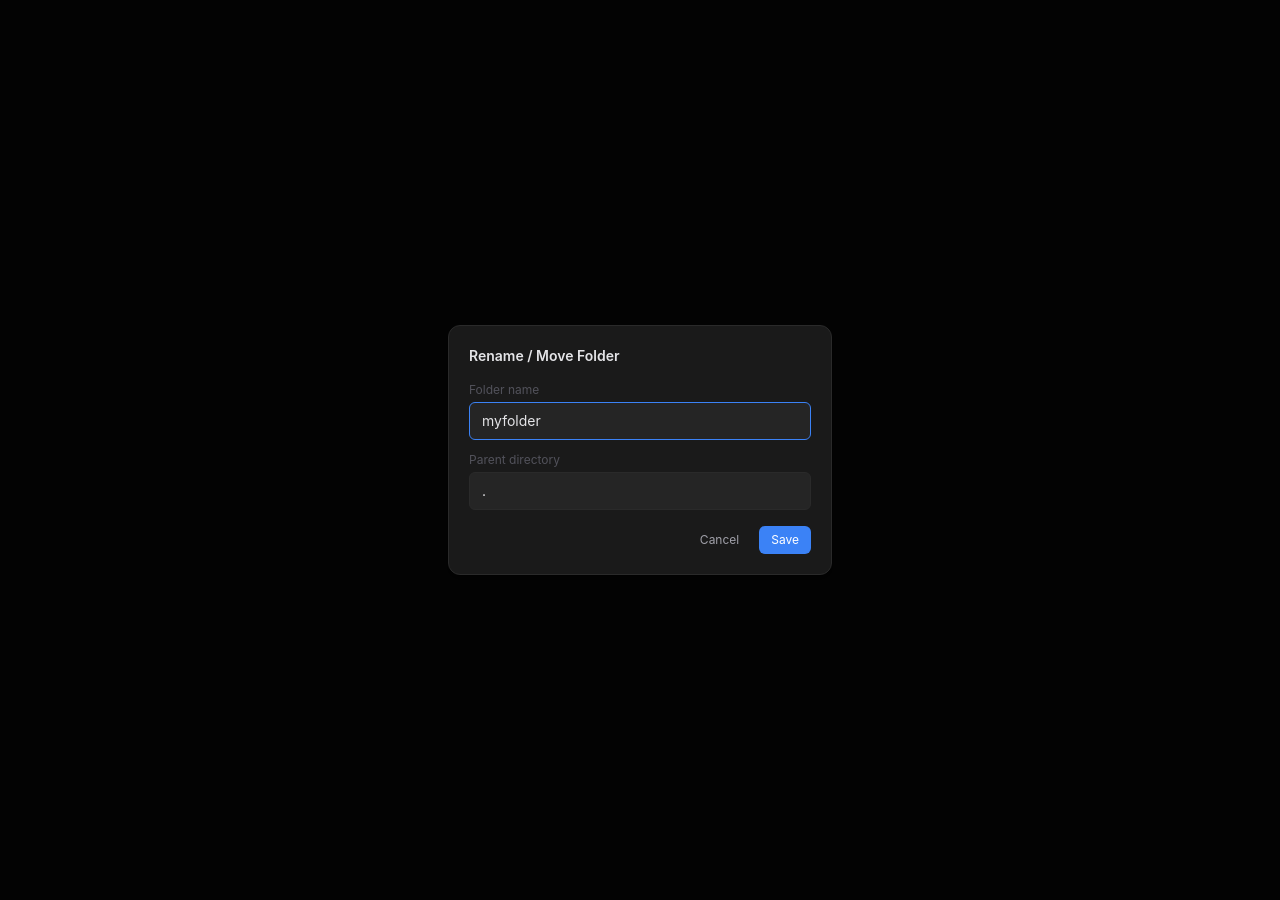
Test: FolderDialog › disables Save button when name is empty
Clear the field showing "myfolder" below "Folder name": (640, 421) [469,402,811,440]
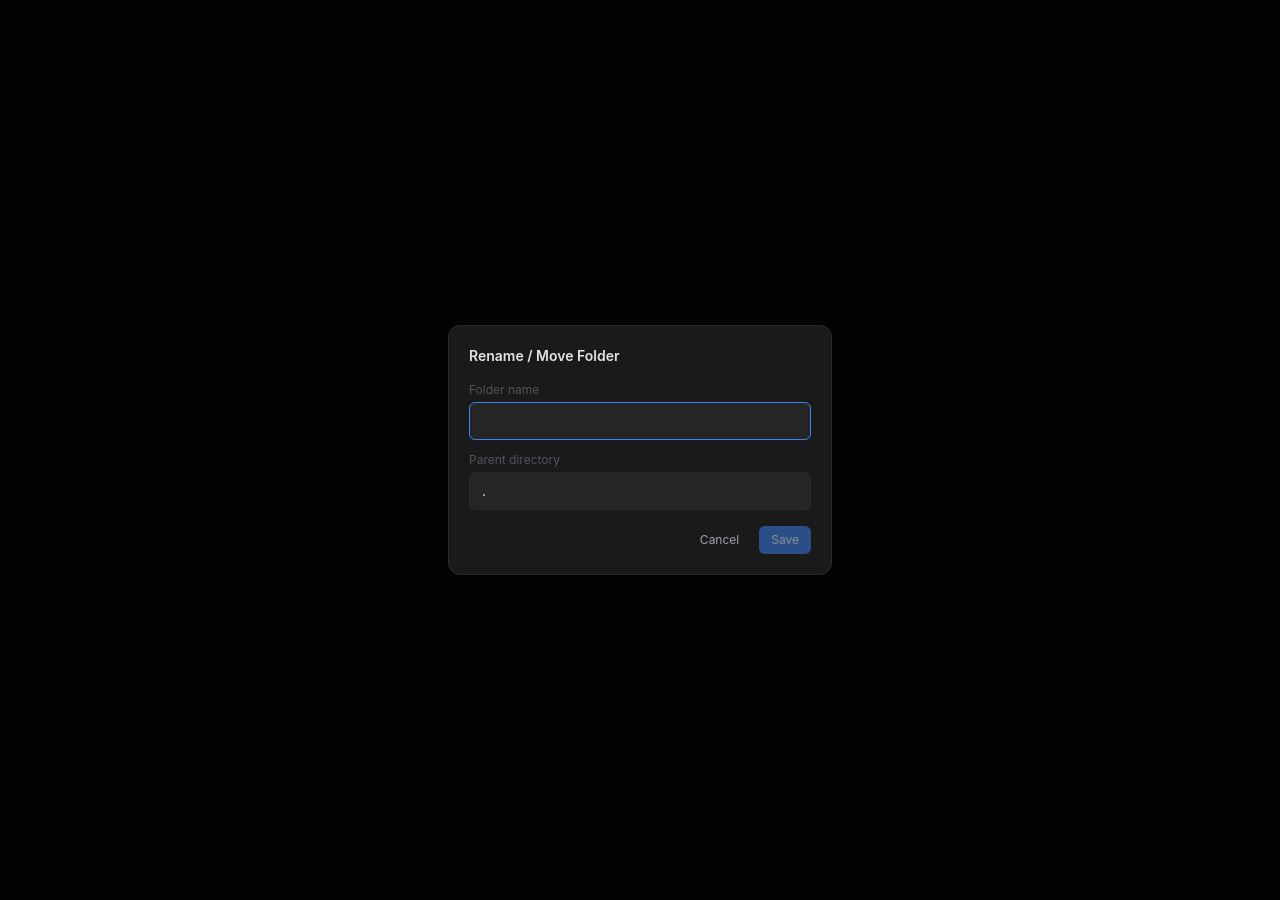
Now the button "Save" is disabled, box [759,526,811,554]
